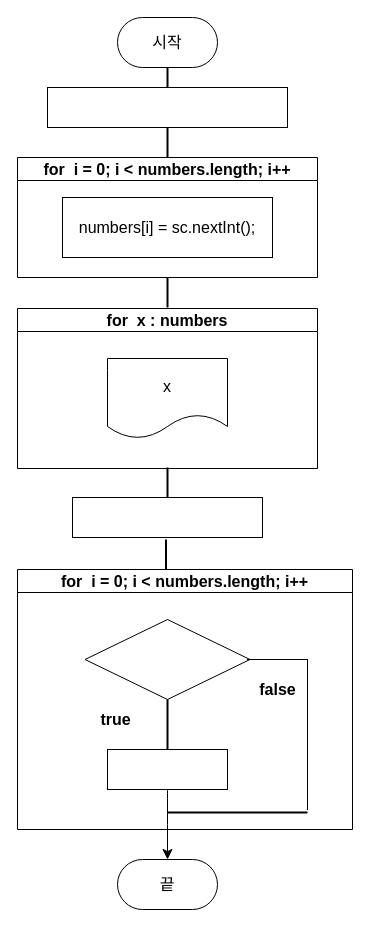
Image size: 370x927. Some labels were removed from this diagram. The shapes that lost their labels are listed below. From the top down, each one's centre as x and y in pixels, then its label:
the point at 167,107: int[] numbers = new int[3];
the point at 167,517: count = 0
the point at 167,659: numbers[i] == 33
the point at 167,769: count++
